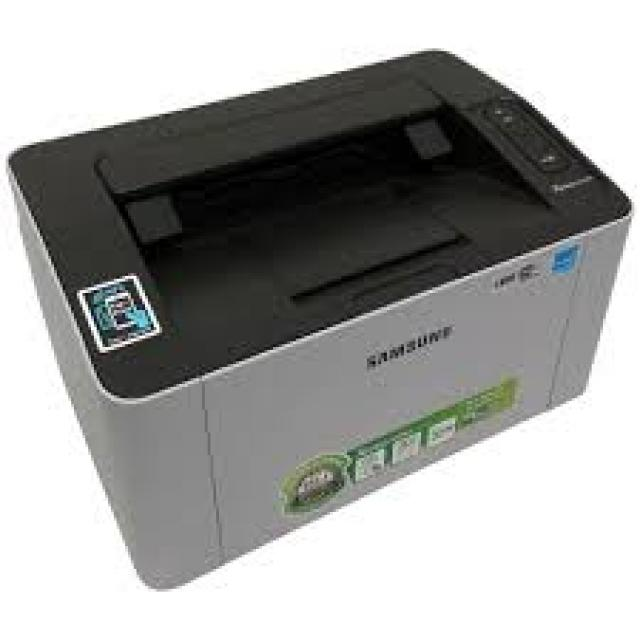printer: (10, 46, 636, 589)
